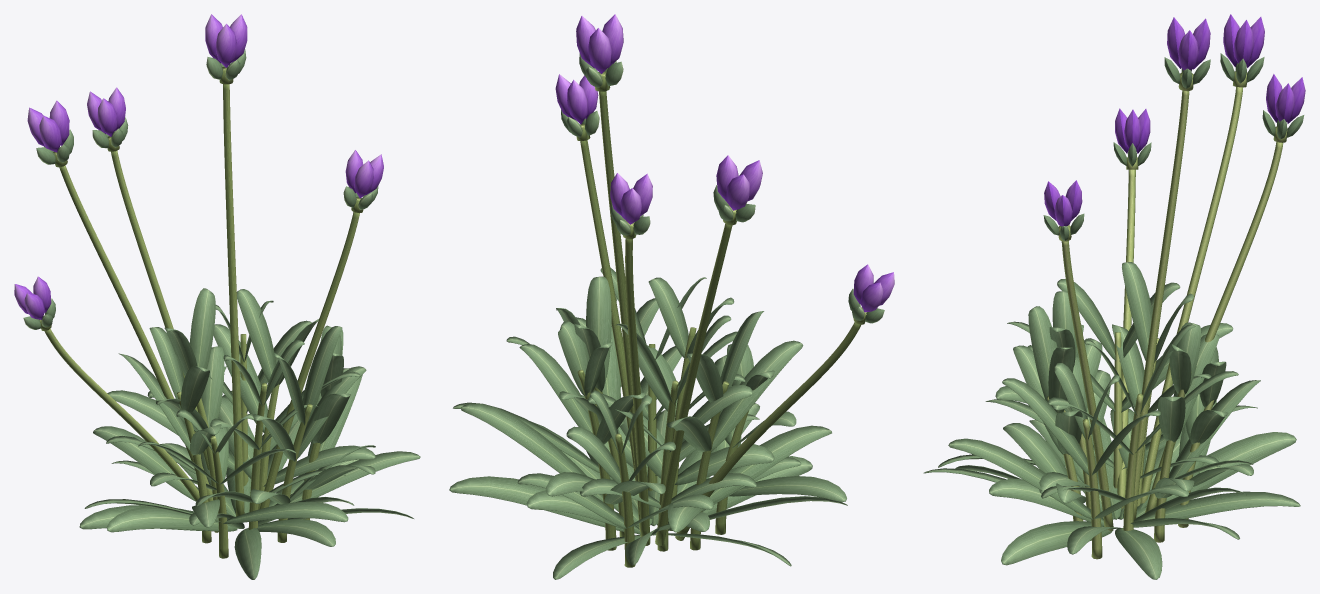
File: NP_Lavender_BudForming.fbx
3 views of the same model, side by side, from view 1: azimuth 30°, elevation 25°; view 2: azimuth 150°, elevation 25°; view 3: azimuth 270°, elevation 25° (orthographic). The views are drawn at different scales.
Parts seen in each view (by area): view 1: NP_Lavender_BudForming; view 2: NP_Lavender_BudForming; view 3: NP_Lavender_BudForming.
Boxes of the visible parts, x1,y1,x2,y2 form: NP_Lavender_BudForming: (14,14,420,579); NP_Lavender_BudForming: (449,14,894,579); NP_Lavender_BudForming: (923,14,1305,579).
Bounding box in the file's own units: 59.21 × 74.06 × 49.52.
